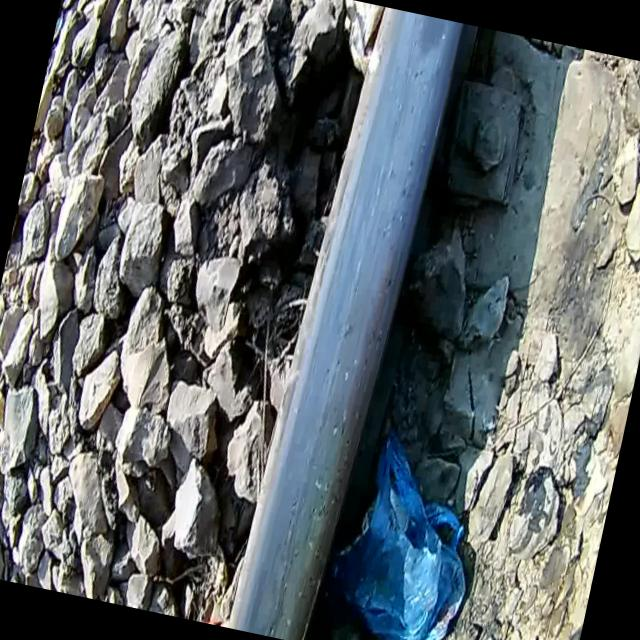Squats: (216, 0, 479, 640)
